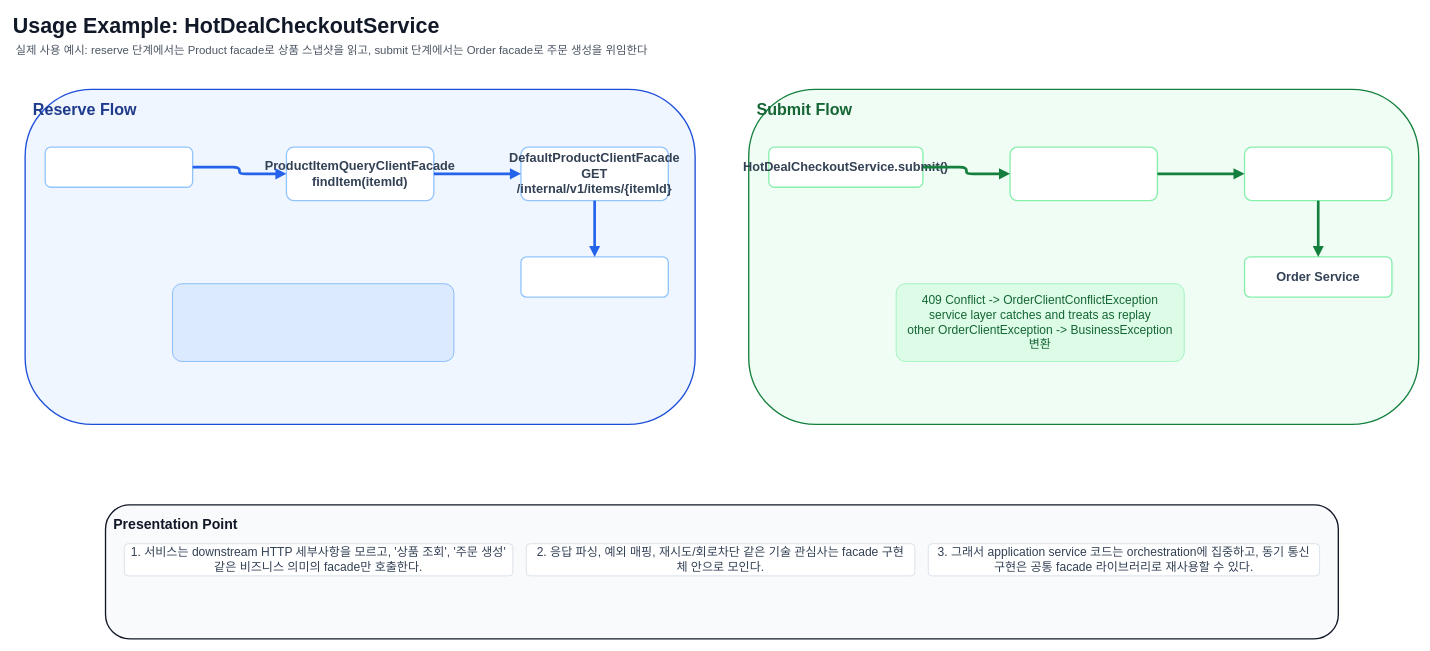
Some shapes in this 1430 by 651 pixel diagram are drawn without their labels. Each missing label, with the centre of its shape:
"DefaultOrderClientFacade POST /internal/v1/orders" belongs at [1318,173].
"HotDealCheckoutService.reserve()" belongs at [118,167].
"OrderCreateClientFacade createOrder(request)" belongs at [1083,173].
"Product Service" belongs at [594,276].
"상품 스냅샷(JsonNode)에서 sellerId / storeId / itemType 등을 읽어 HotDealCheckoutSession 생성" belongs at [313,322].
